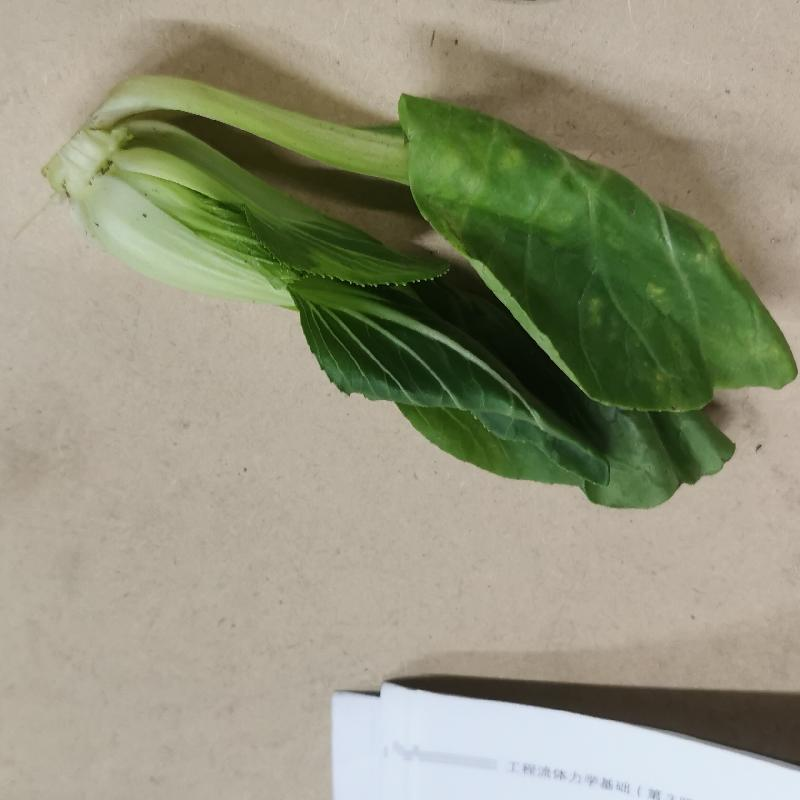green vegatable: (42, 63, 800, 519)
